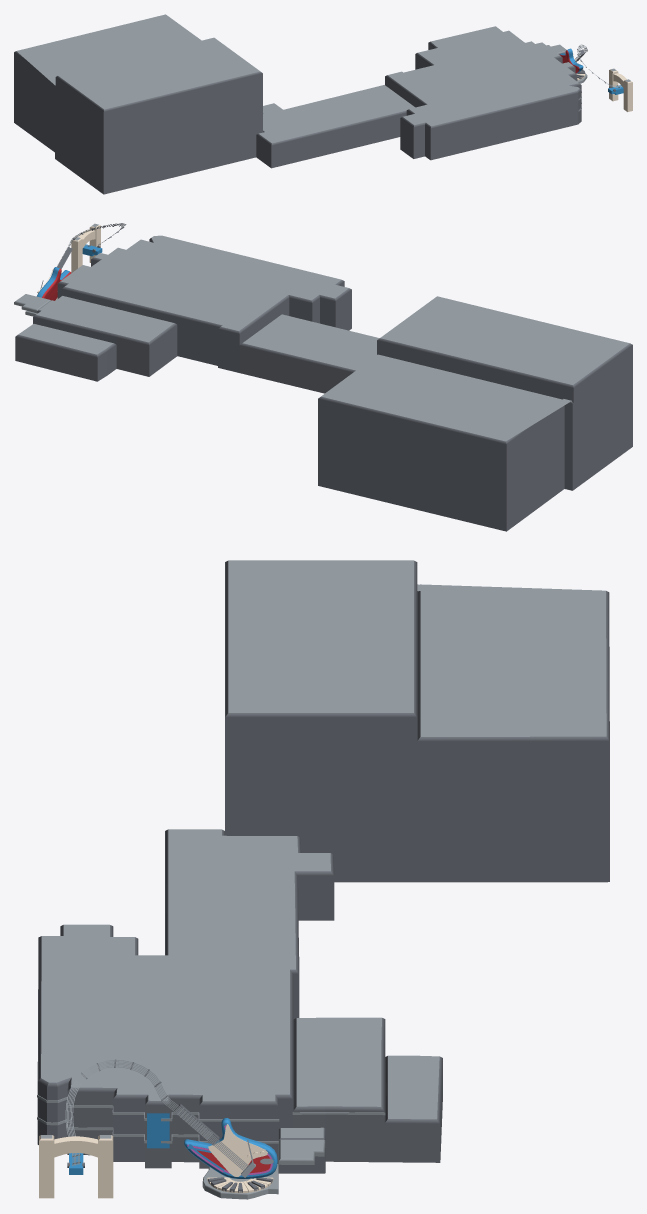
File: detail.glb
3 renders of one model, top to bottom at view 1: azimuth 30°, elevation 25°; view 2: azimuth 150°, elevation 25°; view 3: azimuth 270°, elevation 25°, orthographic. The views are drawn at different scales.
Visible parts, largest first — view 1: rock-n-roller-coaster-starring-the-muppets-walt-disney-world; view 2: rock-n-roller-coaster-starring-the-muppets-walt-disney-world; view 3: rock-n-roller-coaster-starring-the-muppets-walt-disney-world.
Part boxes in pixels (bbox=[...]): rock-n-roller-coaster-starring-the-muppets-walt-disney-world: bbox=[14, 14, 632, 194]; rock-n-roller-coaster-starring-the-muppets-walt-disney-world: bbox=[14, 223, 632, 531]; rock-n-roller-coaster-starring-the-muppets-walt-disney-world: bbox=[37, 560, 609, 1199].
Bounding box in the file's own units: 170 × 28 × 86.5.
